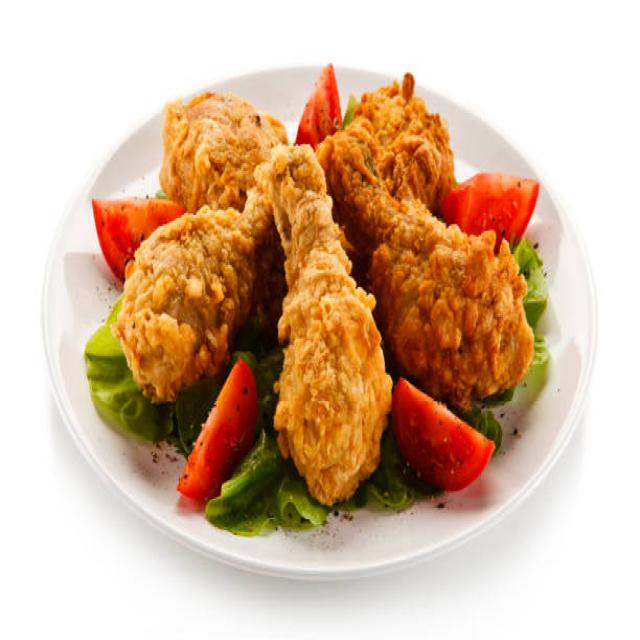Frango: (117, 70, 538, 510)
